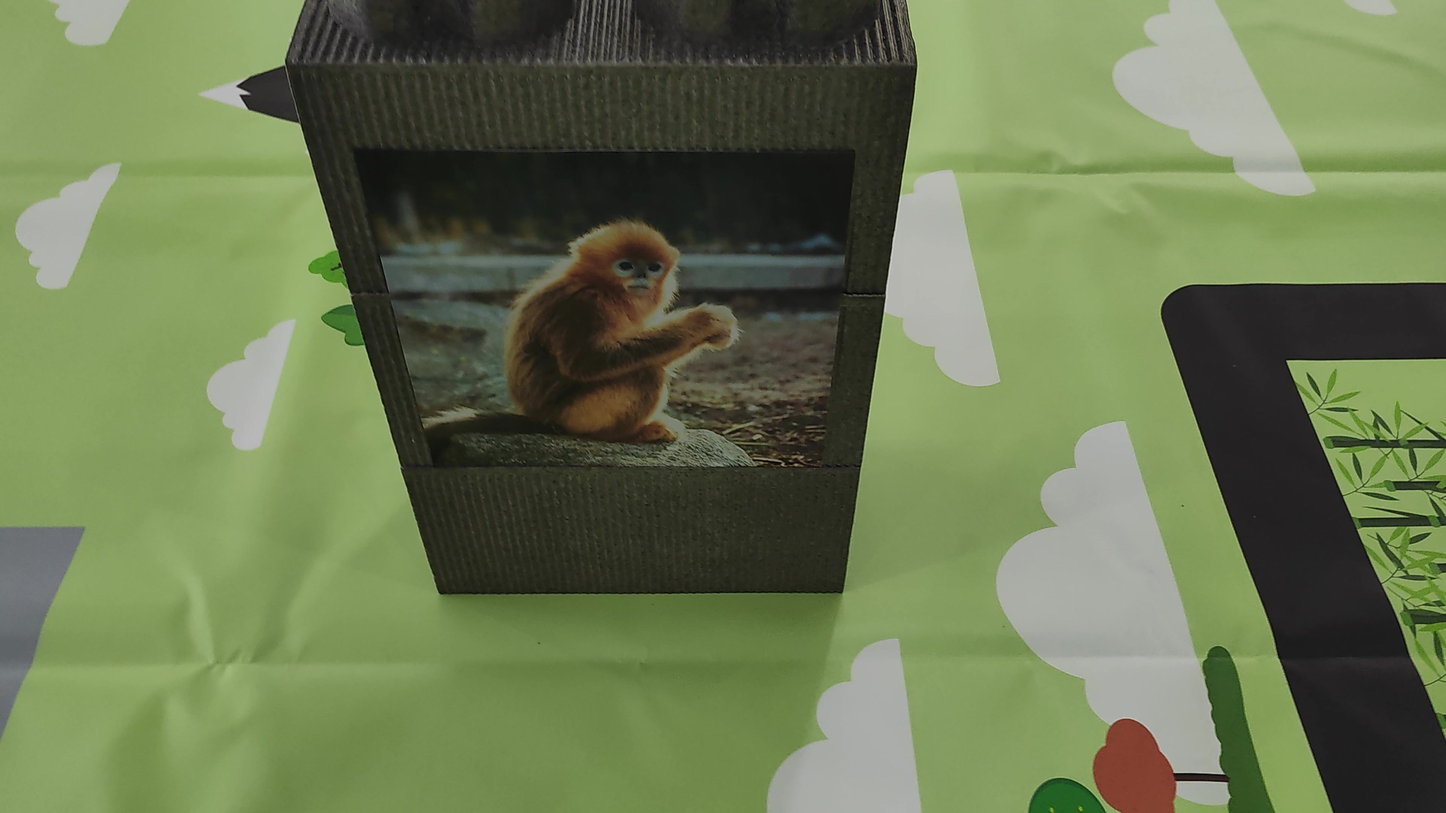monkey: (425, 163, 790, 434)
